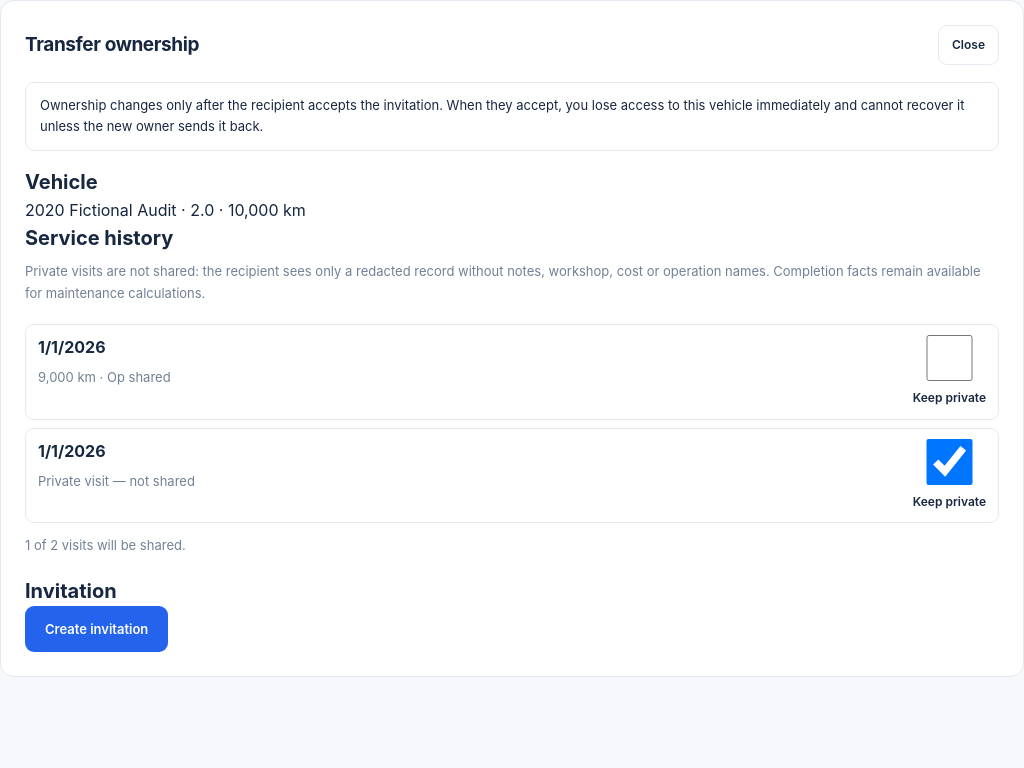
Test case: shows privacy and history errors without leaking details
Expected: the text "9,000 km · Op shared" is shown, x1=38 y1=367 x2=171 y2=388
Click the checkbox labelled "Keep private" in the row of "9,000" at (949, 358), box x1=913 y1=335 x2=986 y2=381
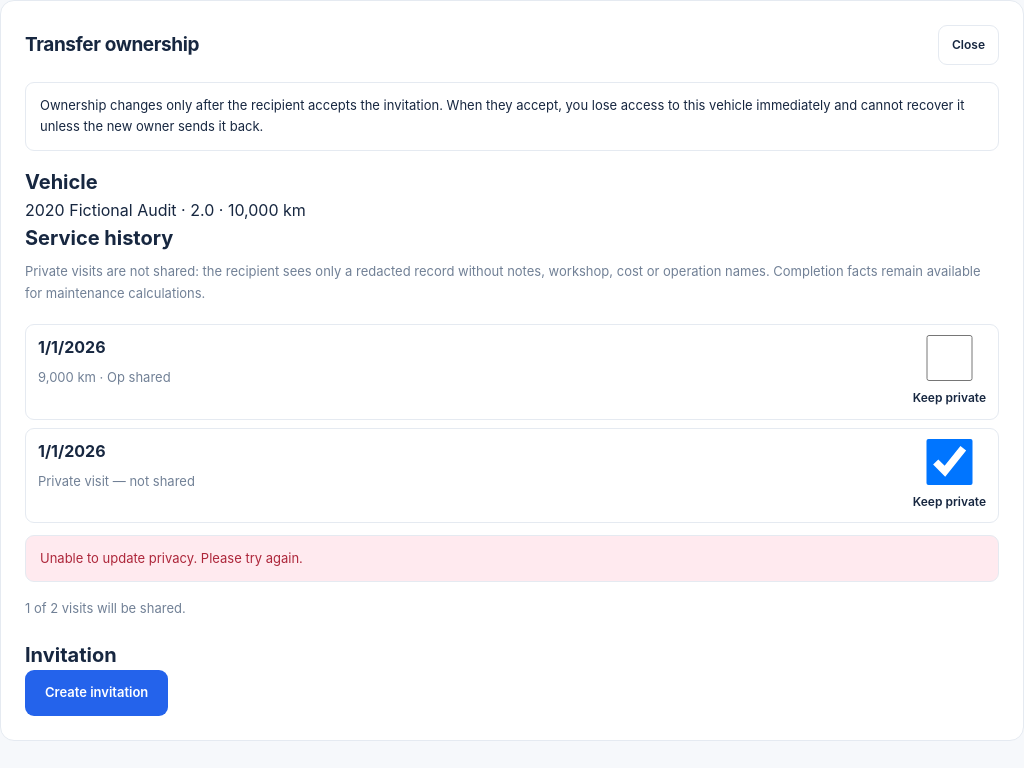
Now the message "Unable to update privacy. Please try again." is shown, box x1=25 y1=535 x2=999 y2=582
